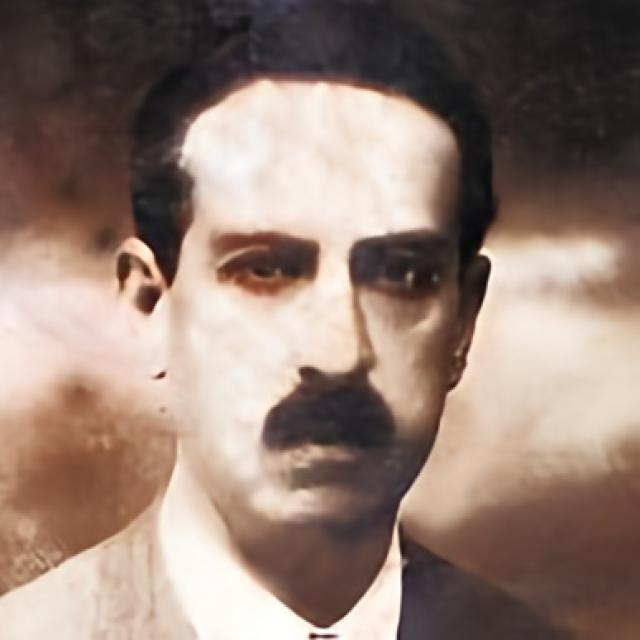anger: (170, 91, 460, 528)
